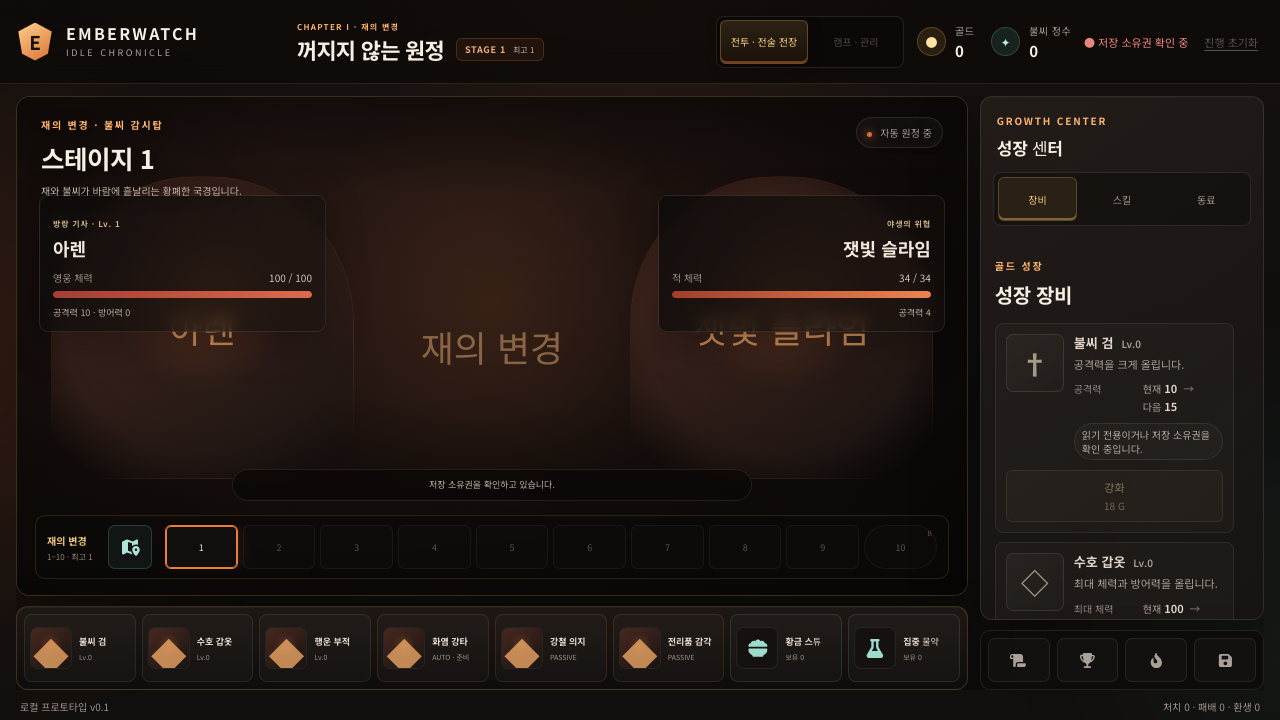
Test case: App › renders the playable first-run shell
The image size is (1280, 720).
Expected: the heading "꺼지지 않는 원정" is shown, [297,37,444,62]
Expected: the heading "성장 장비" is shown, [995,280,1072,309]
Click the button named "승패 결과" at [1088, 660], box [1057,638,1118,682]
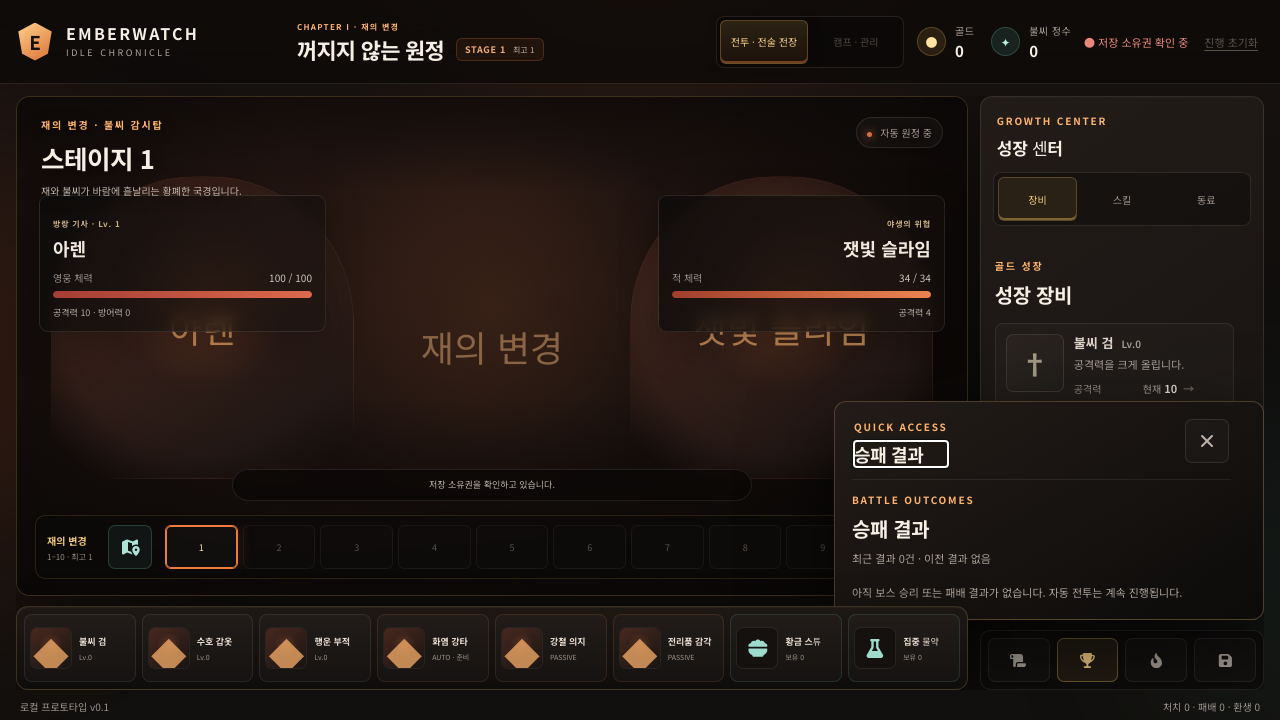
Expected: the text "아직 보스 승리 또는 패배 결과가 없습니다. 자동 전투는 계속 진행됩니다." is shown, [852,584,1231,602]
Click the button named "3지역 원정 지도 열기" at [130, 547], box [108,525,152,569]
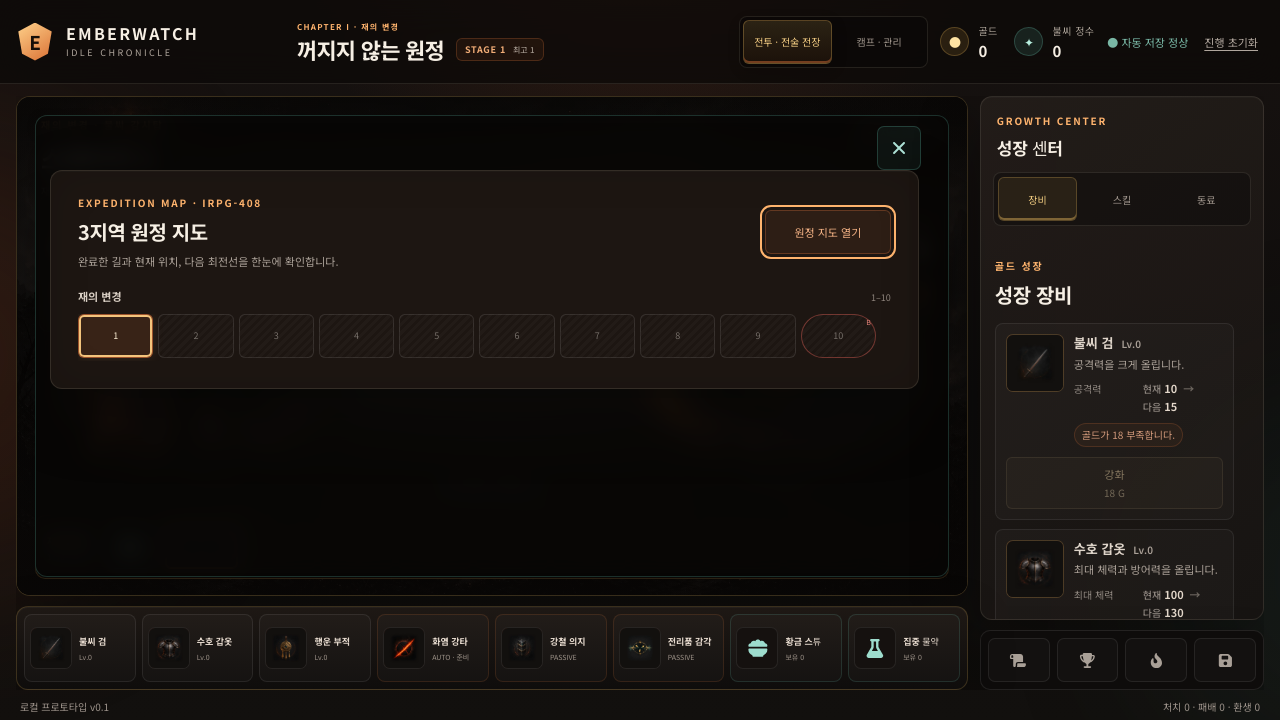
Expected: the heading "3지역 원정 지도" is shown, [78,217,208,246]
